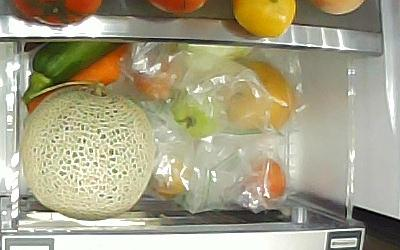carrot: (28, 43, 138, 112)
melon: (23, 82, 155, 221)
pear_vinyl: (215, 59, 295, 133)
prune_vinyl: (134, 60, 180, 101)
tangerine_vinyl: (152, 160, 189, 197)
tomato_vinyl: (172, 92, 224, 140), (245, 156, 286, 199)
zucchini: (22, 40, 126, 101)
